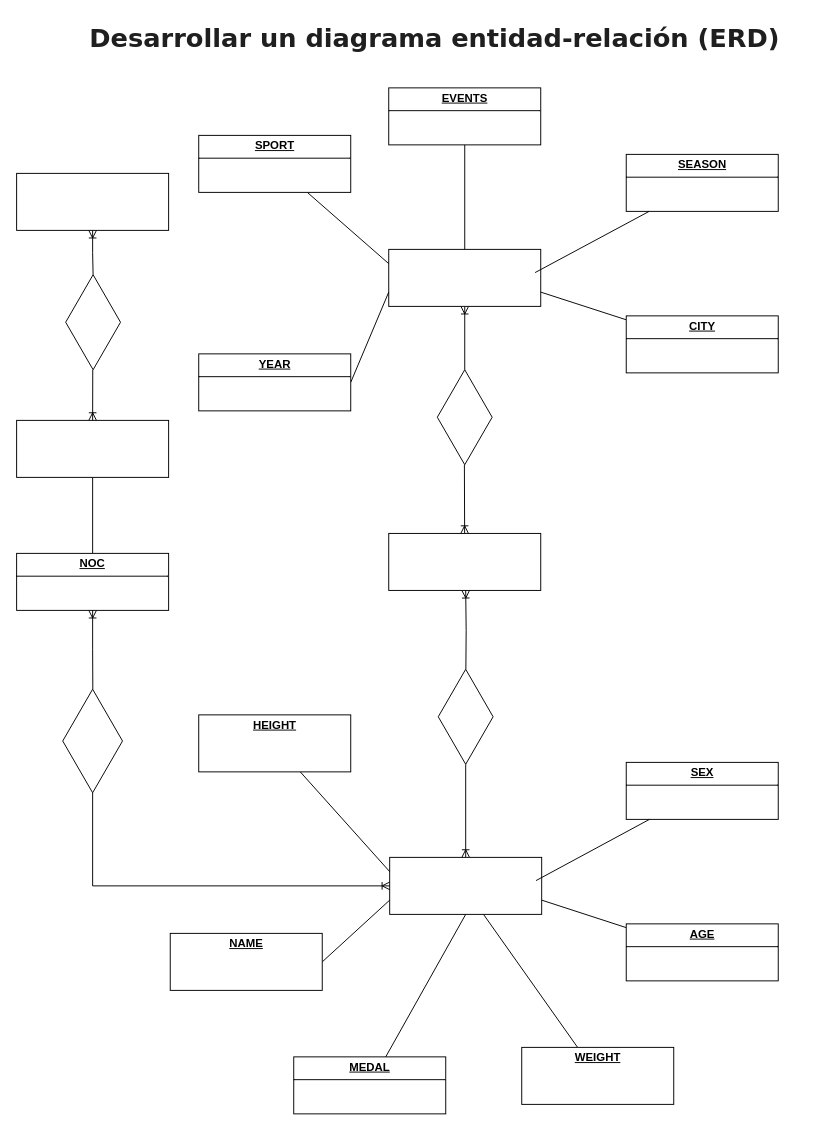
Some shapes in this 827 by 1131 pixel diagram are drawn without their labels. The shapes that lost their labels are listed below. From the top down, each one's centre as x and y in pixels, then its label:
At [92,201]: "NOTES".
At [464,277]: "GAMES".
At [92,448]: "REGION".
At [464,561]: "TEAM".
At [92,740]: "RELATIONSHIP".
At [465,885]: "ID".
